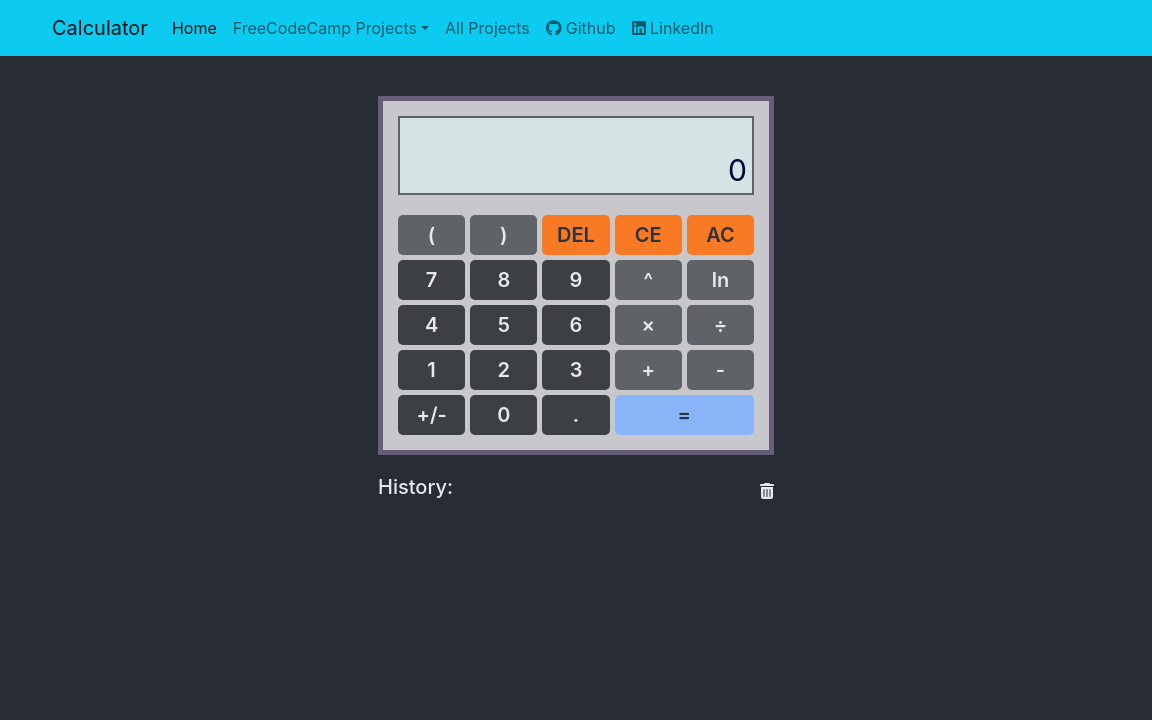
Test case: Has basic calculator functionality › Adds two numbers correctly and displays the result
This screenshot has width=1152, height=720.
Click the button "9". click: click(576, 280)
box: x1=542 y1=260 x2=610 y2=300
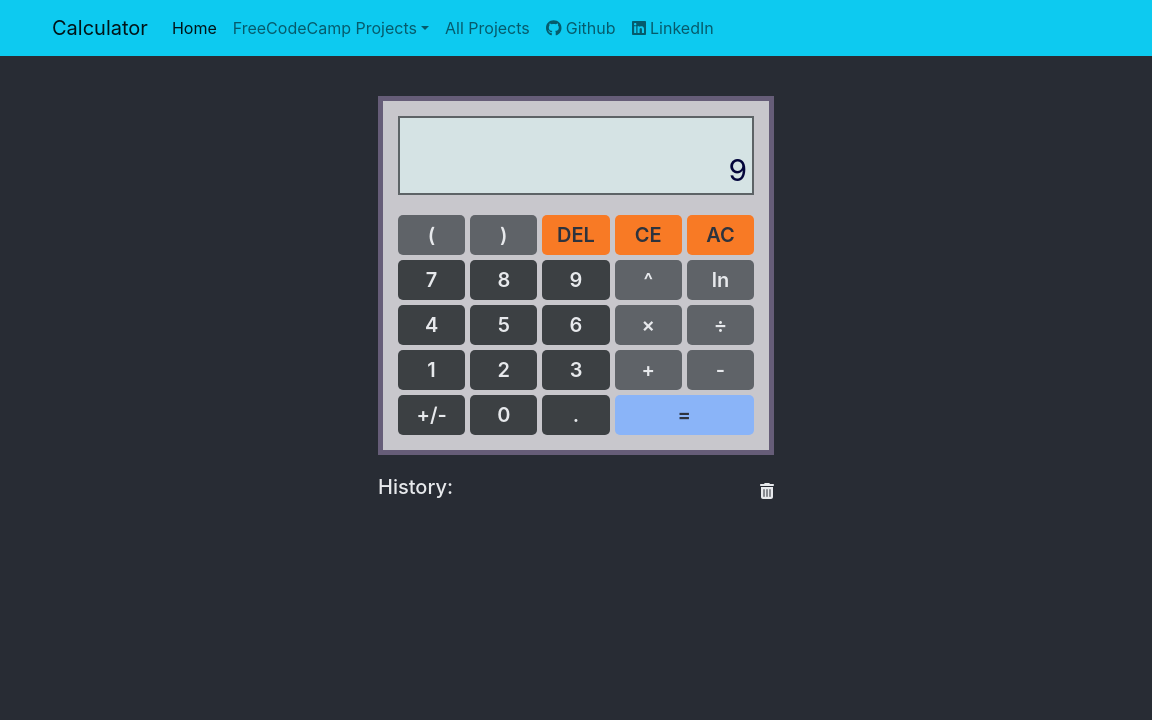
Click the button "+". click: click(648, 370)
box: x1=615 y1=350 x2=682 y2=390
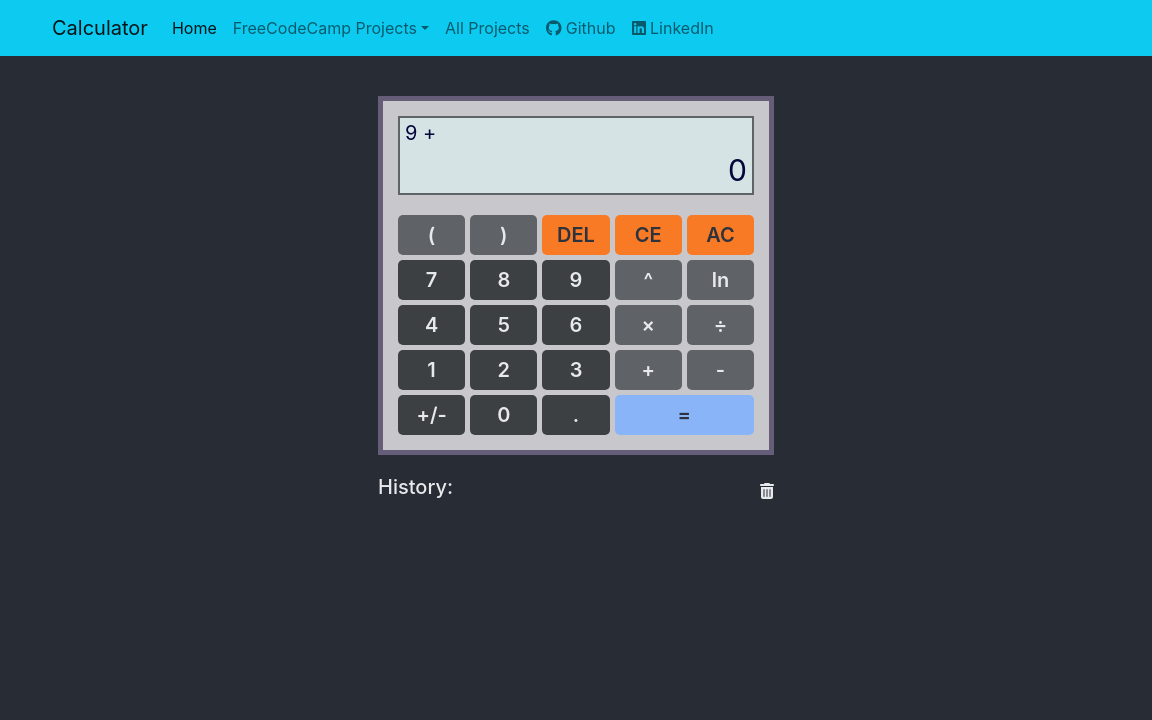
Click the button "3". click: click(576, 370)
box: x1=542 y1=350 x2=610 y2=390
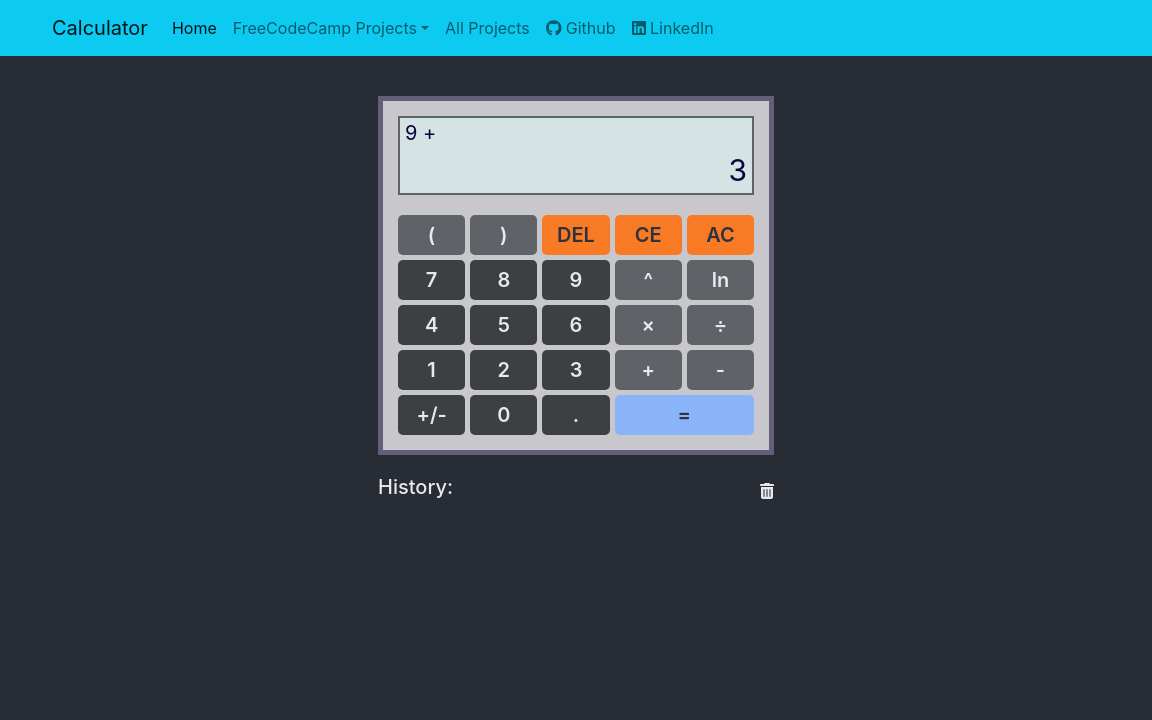
Click the button "=". click: click(684, 415)
box: x1=615 y1=395 x2=754 y2=435
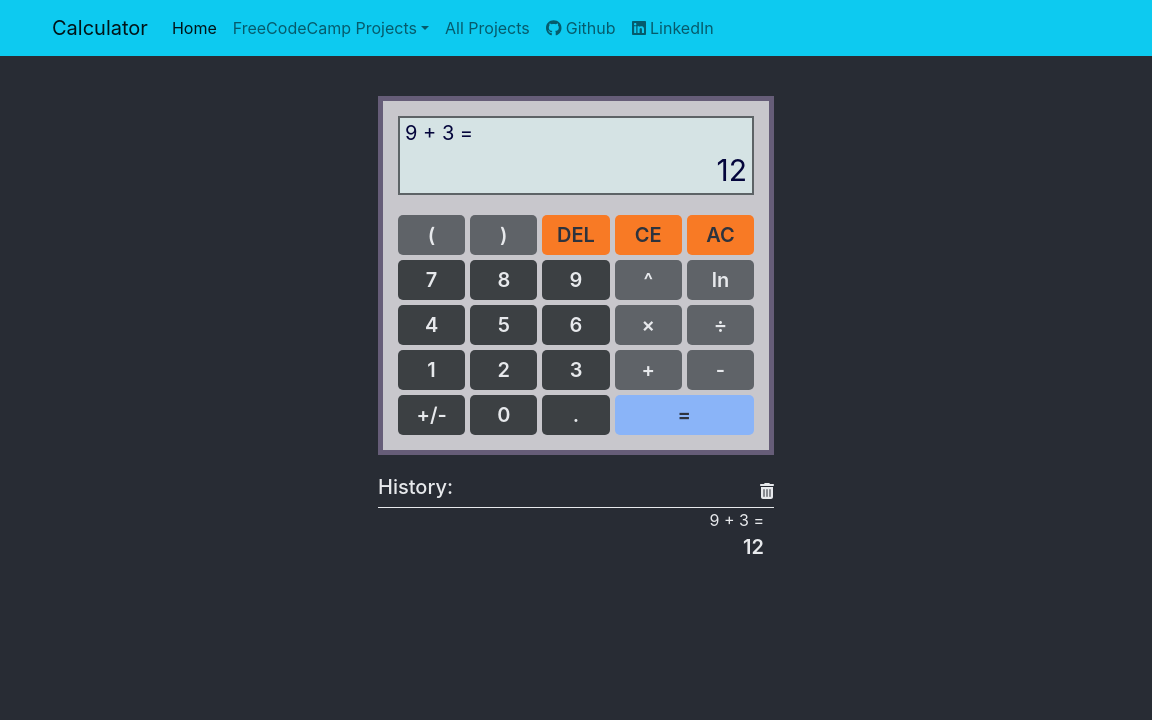
Result: the text with test id "number-display" reads "12" at x1=716 y1=152 x2=747 y2=188
Result: the text with test id "formula-display" reads "9 + 3 =" at x1=405 y1=121 x2=473 y2=145
